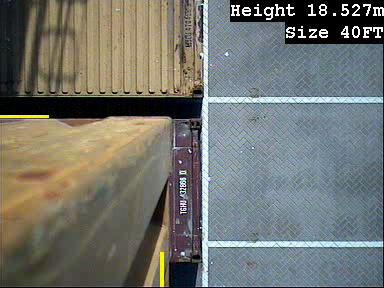groundmarker_2: (188, 142, 280, 243)
